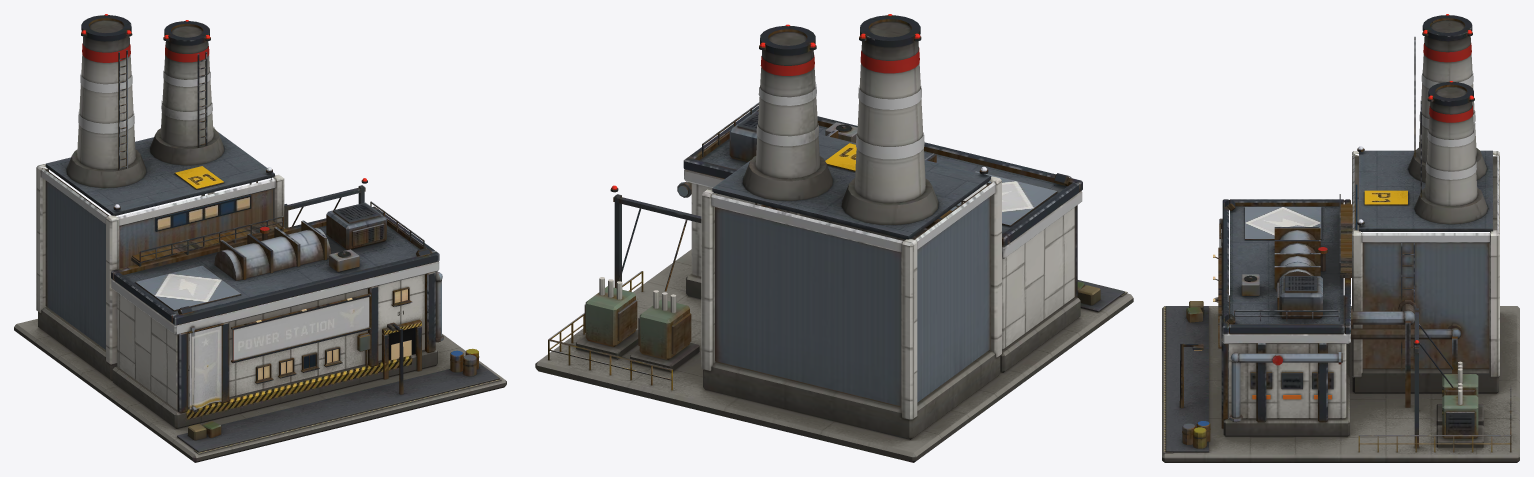
Rendered from powr.allies.glb.
The picture shows the model from 3 angles, left to right: view 1: azimuth 30°, elevation 25°; view 2: azimuth 150°, elevation 25°; view 3: azimuth 270°, elevation 25°; orthographic projection. The views are drawn at different scales.
Parts seen in each view (by area): view 1: root_mesh; view 2: root_mesh; view 3: root_mesh.
Boxes of the visible parts, left/top/right/bottom form: root_mesh: left=14, top=14, right=506, bottom=462; root_mesh: left=535, top=14, right=1133, bottom=462; root_mesh: left=1162, top=14, right=1519, bottom=462.
Bounding box in the file's own units: 1.98 × 1.93 × 1.98.
1 material, 1 textured.
